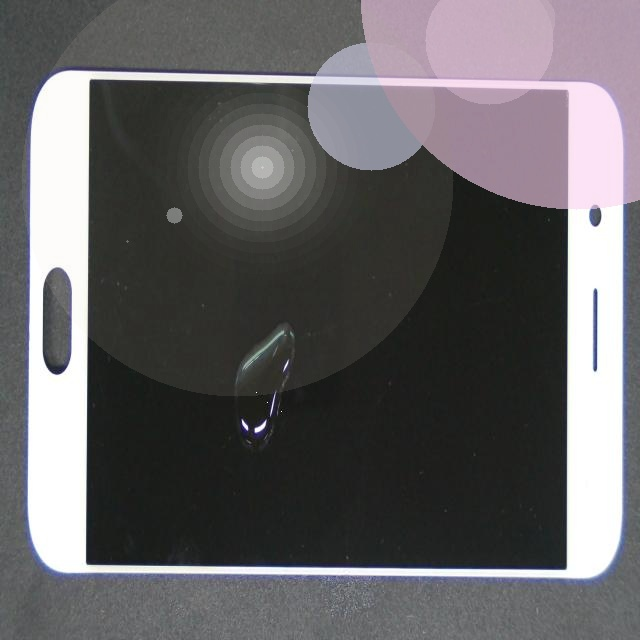oil: (109, 204, 367, 640)
